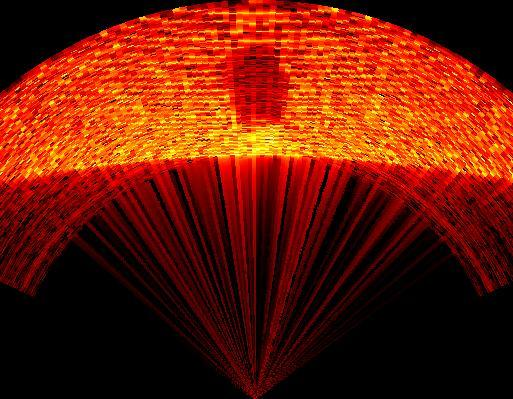box_crate: (225, 48, 286, 124)
